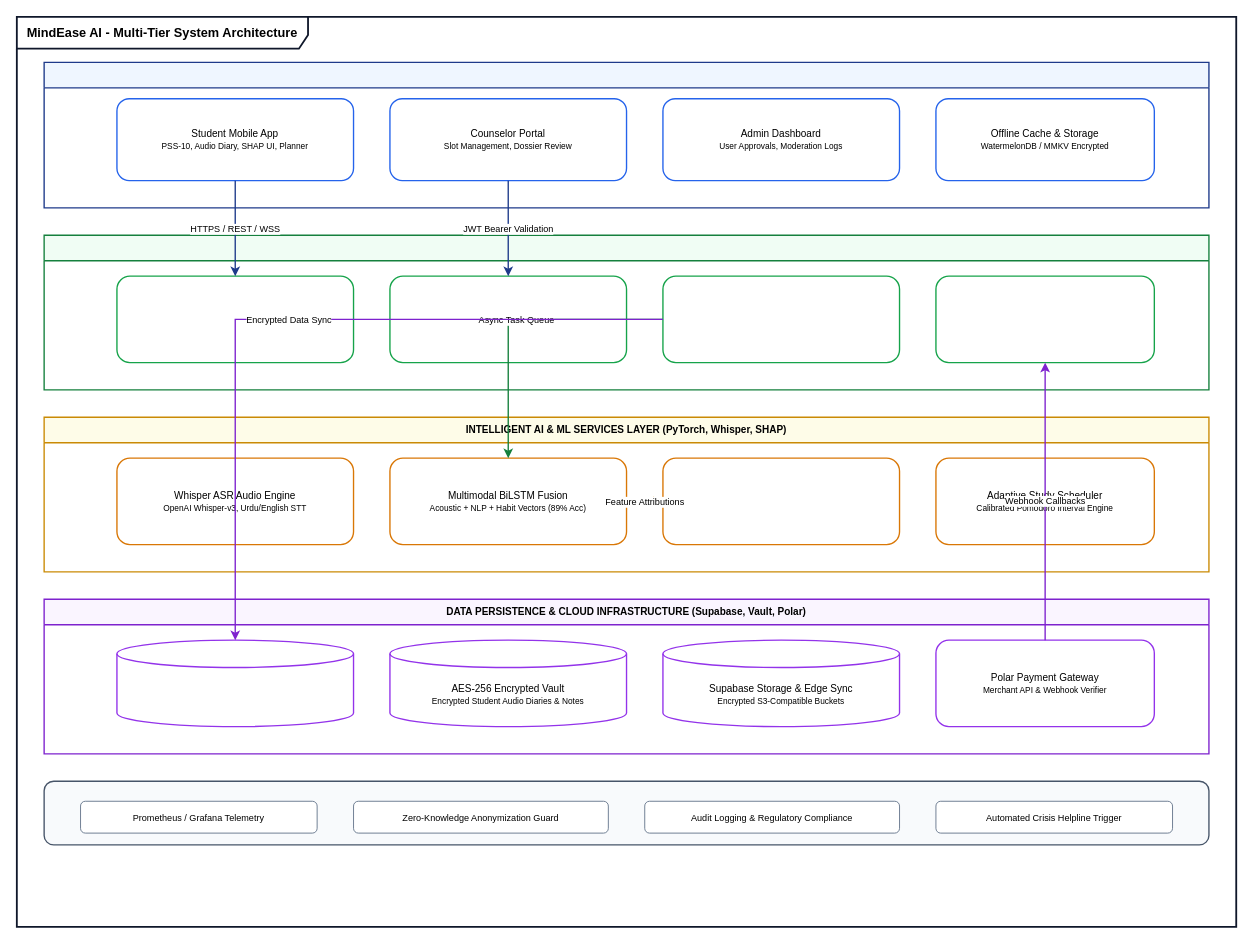
Some shapes in this 1252 by 943 pixel diagram are drawn without their labels. Here are the shapes that lost their labels. From the top down, the box of each, then its label:
(43, 61, 1209, 208): PRESENTATION LAYER (Mobile Client - React Native & Expo)
(116, 275, 354, 363): API Gateway & Reverse Proxy HTTPS / TLS 1.3, Rate Limiting
(389, 275, 627, 363): JWT Auth & RBAC Guard Multi-Role Access Control
(43, 234, 1209, 390): APPLICATION & GATEWAY LAYER (FastAPI & JWT Microservices)
(662, 275, 900, 363): Assessment & Habit Service PSS-10 Ingestion, Habit Logs
(935, 275, 1155, 363): Counselor & Peer Forum Service Polar Webhooks, Feed Moderation
(662, 457, 900, 545): SHAP XAI Attribution Engine Feature Shapley Values & Triggers
(116, 639, 354, 727): Supabase PostgreSQL DB Row-Level Security (RLS), Profiles, Posts
(43, 780, 1209, 845): CROSS-CUTTING CONCERNS (Security, Logging, Observability & Ethics)
